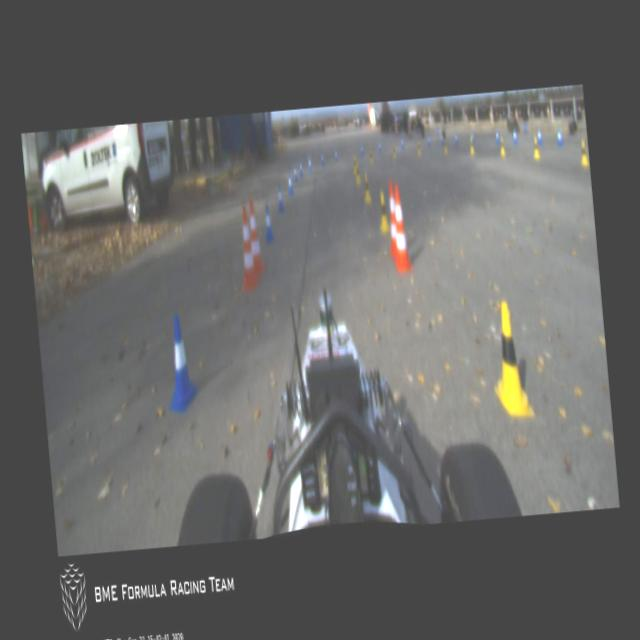blue_cone: (159, 311, 199, 416), (262, 204, 274, 242), (276, 182, 284, 212), (286, 170, 293, 192), (511, 126, 518, 146), (494, 127, 501, 146), (537, 126, 544, 145), (556, 126, 563, 145), (292, 163, 298, 182), (333, 146, 338, 162), (308, 154, 312, 172), (359, 142, 364, 156), (298, 160, 302, 176), (320, 150, 324, 164), (454, 132, 458, 146), (400, 136, 404, 149), (378, 138, 381, 150), (427, 134, 430, 146)
large_orange_cone: (388, 185, 412, 271), (234, 205, 256, 292), (244, 198, 264, 276), (384, 176, 401, 258)
yellow_cone: (487, 298, 532, 422), (376, 190, 390, 236), (361, 174, 371, 202), (578, 138, 588, 164), (532, 134, 540, 159), (498, 133, 506, 156), (468, 135, 476, 154), (440, 134, 447, 154), (354, 162, 360, 184), (368, 146, 374, 166), (352, 153, 356, 175), (391, 143, 396, 159), (416, 138, 420, 154)
